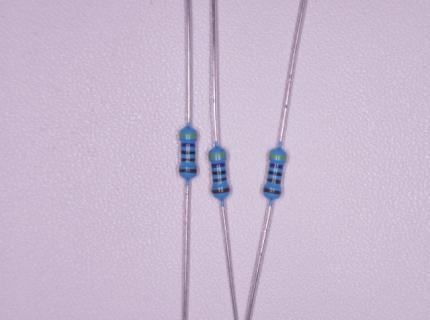Black band: (181, 150, 195, 155), (212, 170, 226, 175), (268, 171, 282, 176)
Brown band: (263, 187, 280, 195), (212, 187, 229, 194), (267, 178, 281, 184), (179, 169, 197, 173), (213, 177, 226, 182), (181, 158, 195, 162)
Violet band: (269, 163, 284, 170), (212, 162, 225, 168), (181, 143, 195, 147)
Yellow band: (269, 154, 286, 160), (209, 153, 226, 158), (180, 134, 197, 137)
